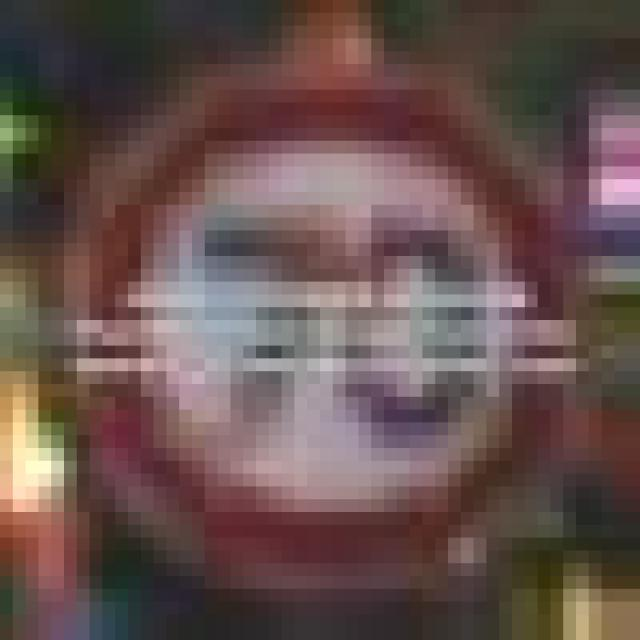SPEED_LIMIT_70: (64, 64, 563, 563)
